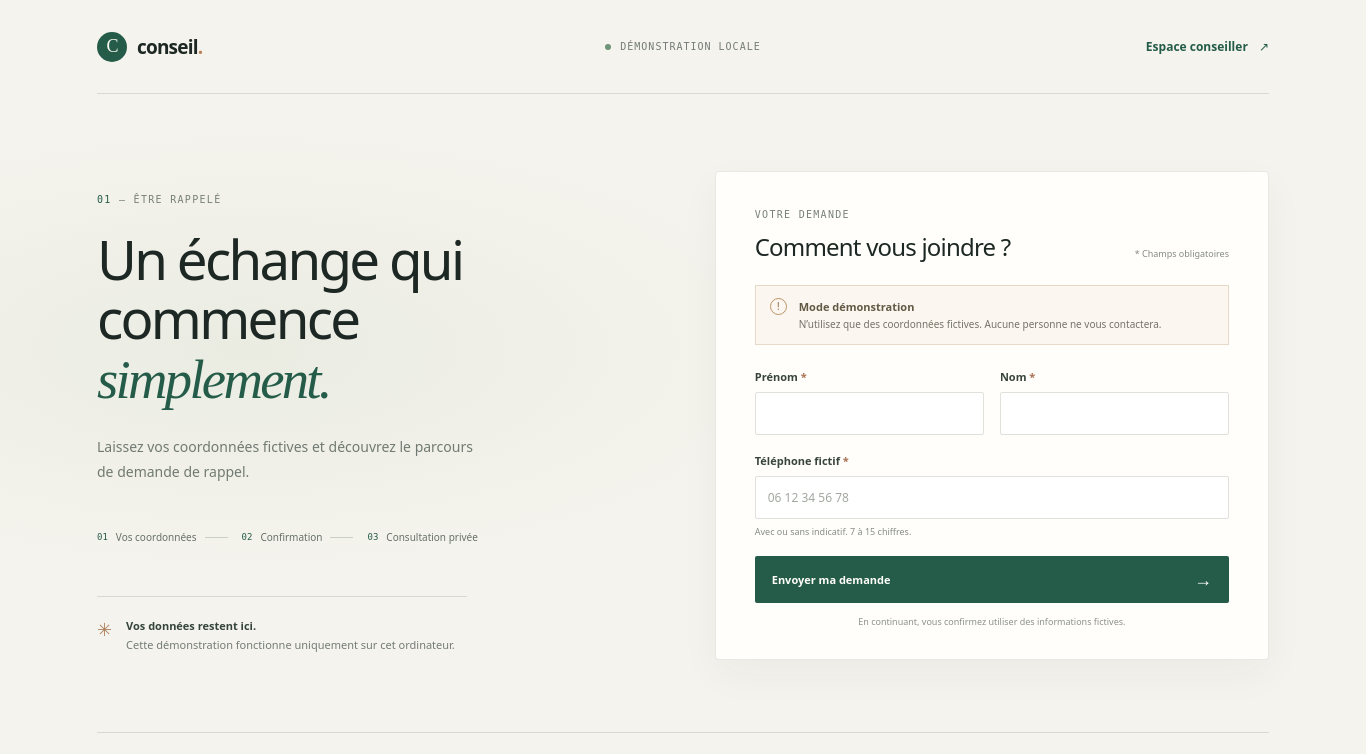
Scenario: callback request journey › confirms a request only after the server saves it
Step 1. Type "Camille" into the field labelled "Prénom *" → (869, 413), box [755,392,984,435]
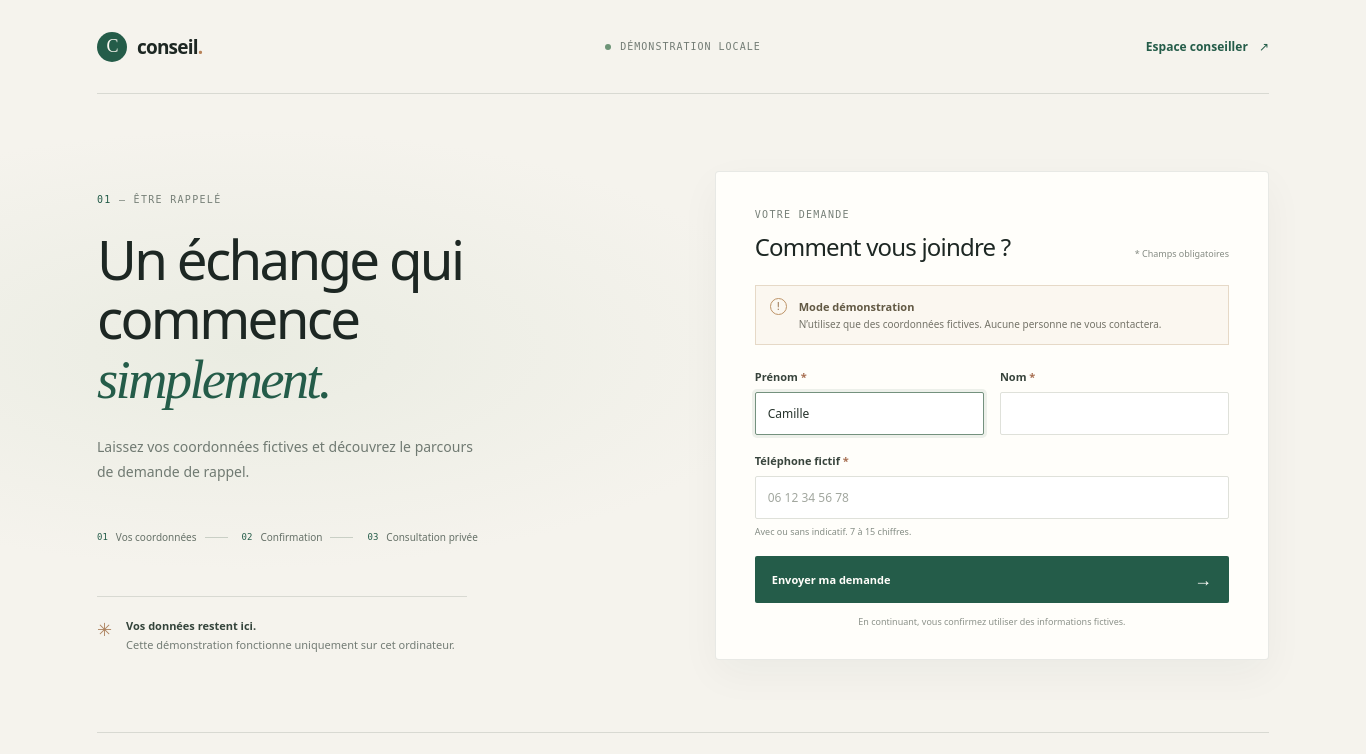
Step 2. Type "Martin" into the field labelled "Nom *" → (1114, 413), box [1000,392,1229,435]
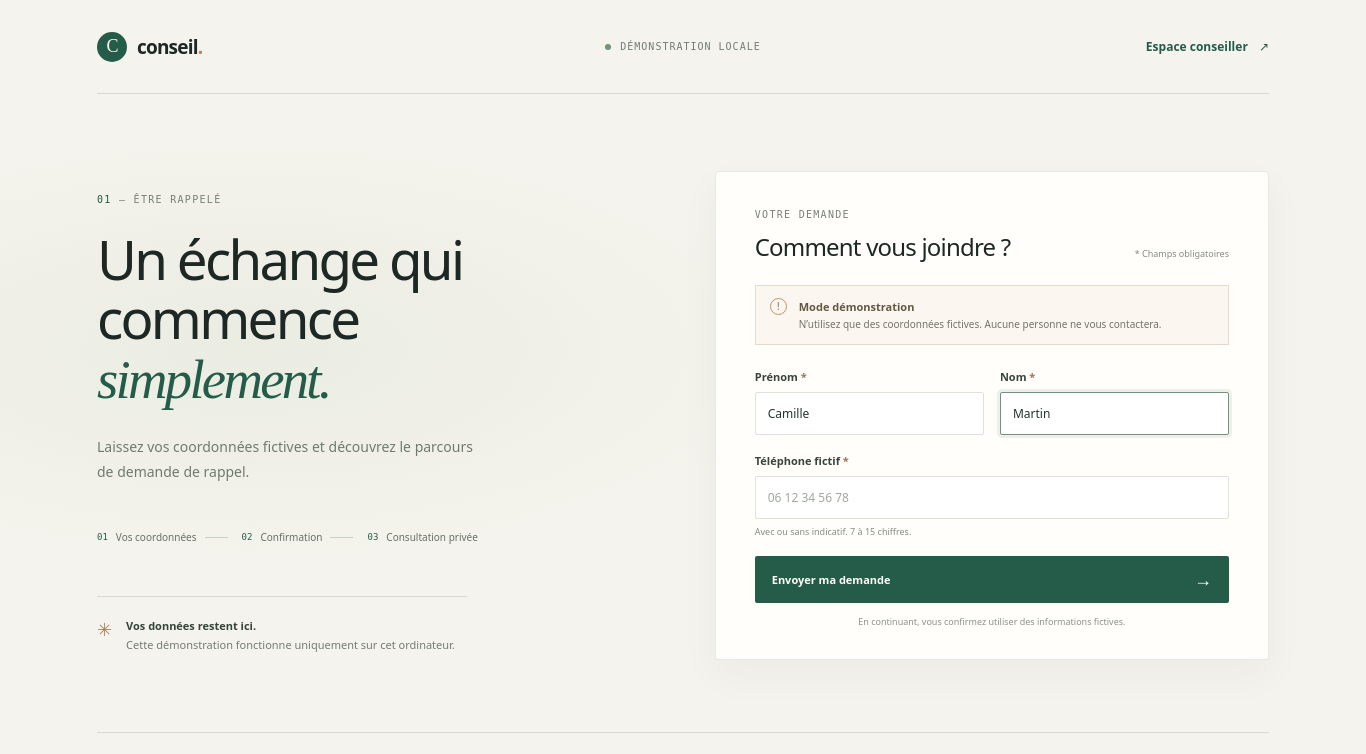
Step 3. Type "0612345678" into the field labelled "Téléphone fictif *" → (992, 497), box [755,476,1229,519]
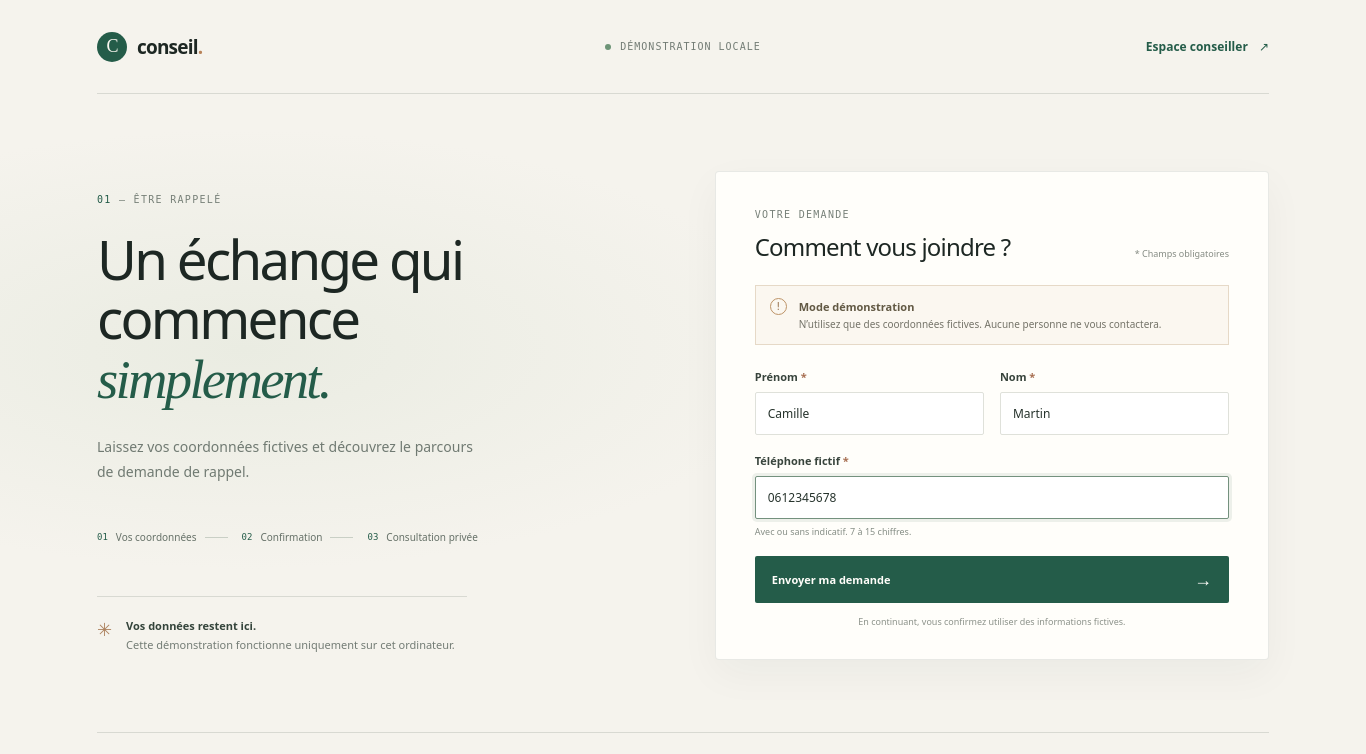
Step 4. Click the button "Envoyer ma demande →" → (831, 579), box [755,556,1229,603]
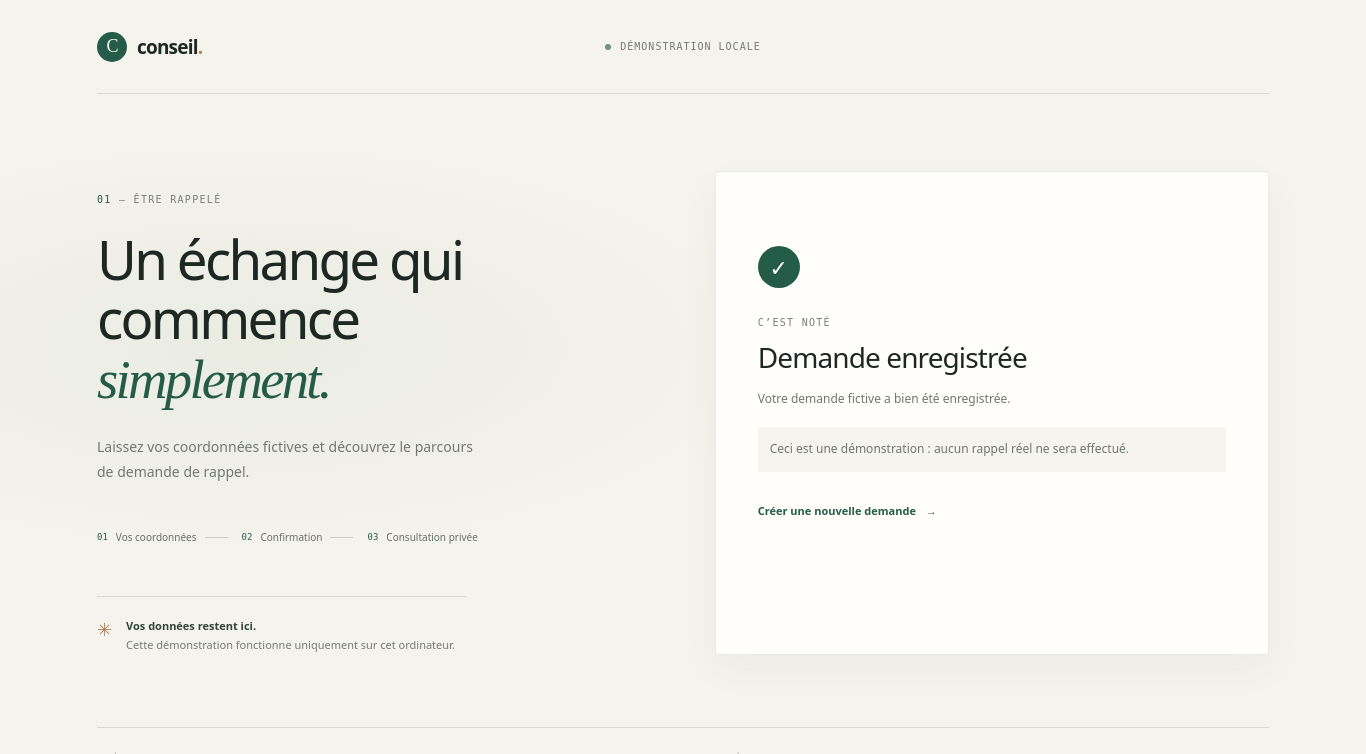
Now the heading "Demande enregistrée" is shown, box [758,338,1027,376]
Now the text "aucun rappel réel ne sera effectué" is shown, box [770,440,1129,457]
